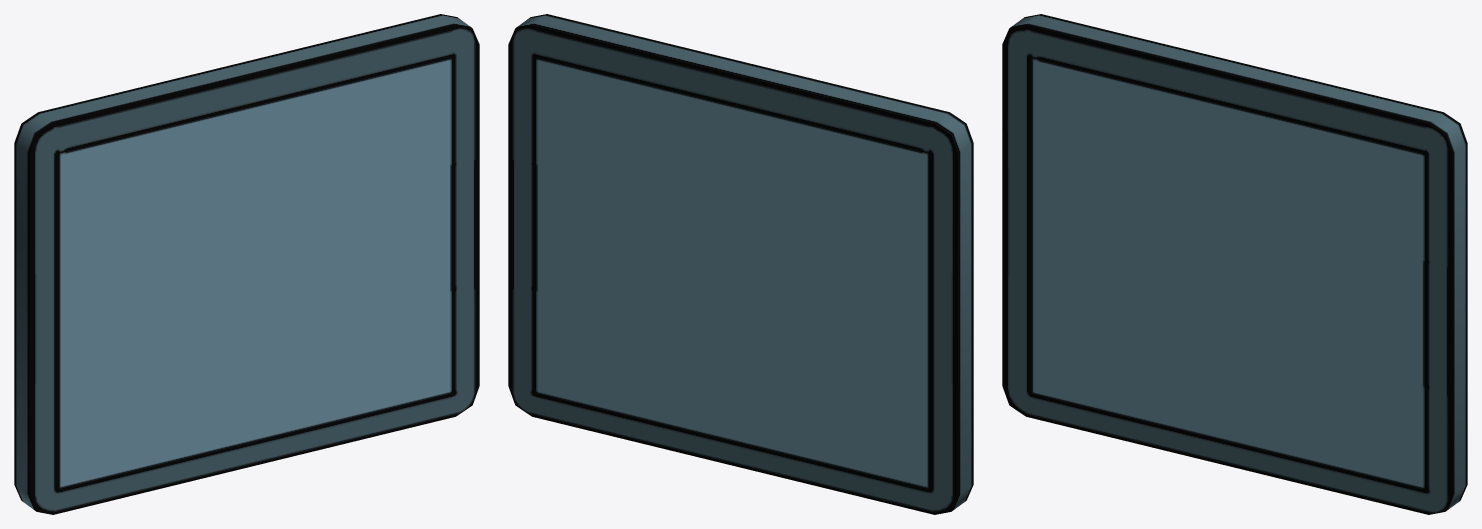
Rendered from Sboard.fbx.
The picture shows the model from 3 angles, left to right: view 1: azimuth 30°, elevation 25°; view 2: azimuth 150°, elevation 25°; view 3: azimuth 330°, elevation 25°; orthographic projection.
Parts seen in each view (by area): view 1: Sboard; view 2: Sboard; view 3: Sboard.
Boxes of the visible parts, box(x1,y1,x2,y2) form: Sboard: box(14, 14, 479, 514); Sboard: box(508, 14, 973, 514); Sboard: box(1002, 14, 1467, 514).
Size of the model in its own units: 1.34 by 1.11 by 0.0783.
